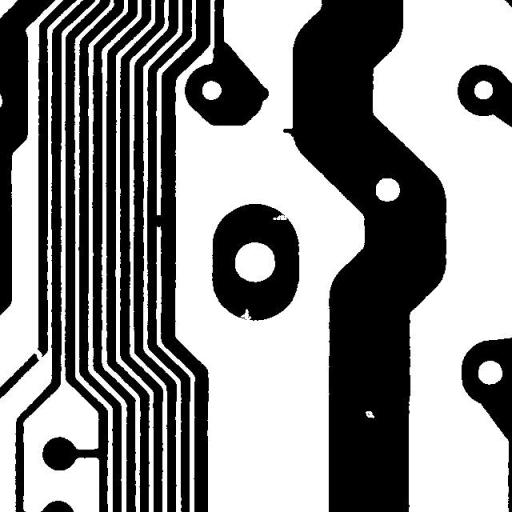mousebite: (233, 301, 258, 330), (265, 207, 295, 227)
open: (24, 341, 50, 368)
pin-hole: (358, 403, 382, 426)
short: (144, 208, 171, 234)
spur: (275, 120, 303, 144)
